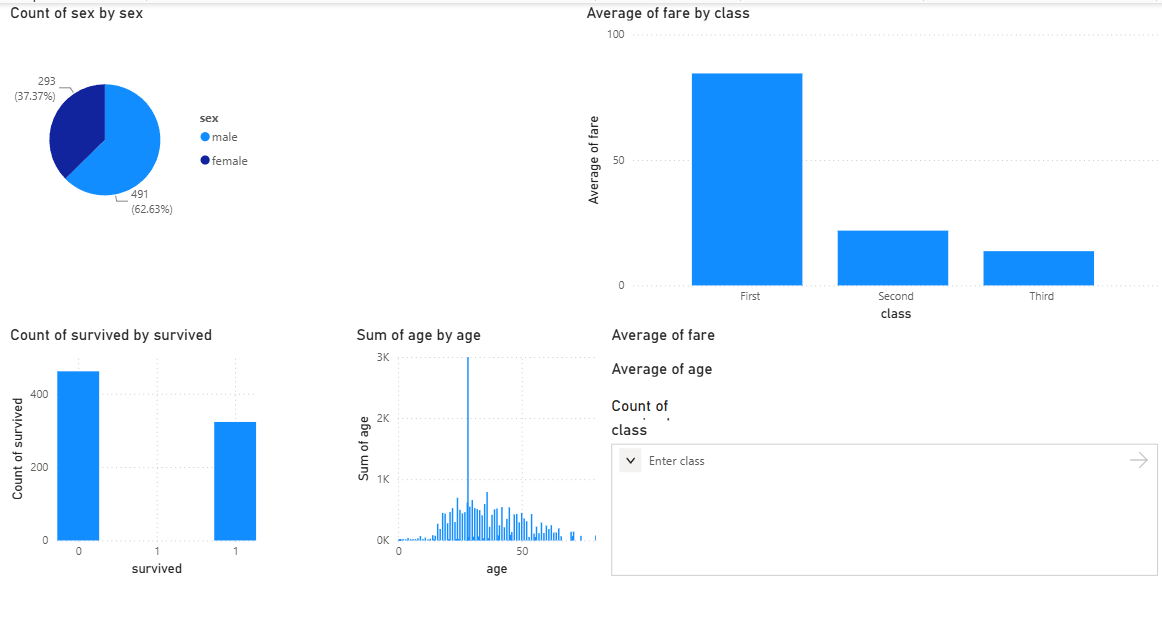

The page's visual inventory and layout, read from the dashboard file:
{"tool":"powerbi","page":{"name":"Page 1","canvas":[1280,720],"ordinal":0},"visuals":[{"type":"pieChart","fields":{"Y":["CountNonNull(titanic_cleaned.sex)"],"Category":["titanic_cleaned.sex"]},"box":[10,0,280,280],"z":0},{"type":"clusteredColumnChart","fields":{"Category":["titanic_cleaned.class"],"Y":["Avg(titanic_cleaned.fare)"]},"box":[642.2,0,638.1,354],"z":1},{"type":"clusteredColumnChart","fields":{"Category":["titanic_cleaned.survived"],"Y":["CountNonNull(titanic_cleaned.survived)"]},"box":[10,354,280,280],"z":2},{"type":"clusteredColumnChart","fields":{"Category":["titanic_cleaned.age"],"Y":["Sum(titanic_cleaned.age)"]},"box":[389.7,354,279.9,279.9],"z":3},{"type":"kpi","fields":{"Indicator":["Avg(titanic_cleaned.fare)"]},"box":[669.6,354,141.3,37],"z":4},{"type":"kpi","fields":{"Indicator":["Avg(titanic_cleaned.age)"]},"box":[669.6,391.1,141.3,41.2],"z":5},{"type":"advancedSlicerVisual","fields":{"Label":["CountNonNull(titanic_cleaned.survived)"]},"box":[669.6,432.2,141.3,27.4],"z":6},{"type":"textSlicer","fields":{"Values":["titanic_cleaned.class"]},"box":[670,459,610,175],"z":7}]}

Visuals, with their boxes in screenshot pixels (x1, y1, x2, y2), scaled from the page's 1280x720 canvas onto the 1162x642 screenshot:
pieChart - CountNonNull(titanic_cleaned.sex) x titanic_cleaned.sex: x1=9, y1=0, x2=263, y2=250
clusteredColumnChart - titanic_cleaned.class x Avg(titanic_cleaned.fare): x1=583, y1=0, x2=1161, y2=316
clusteredColumnChart - titanic_cleaned.survived x CountNonNull(titanic_cleaned.survived): x1=9, y1=316, x2=263, y2=565
clusteredColumnChart - titanic_cleaned.age x Sum(titanic_cleaned.age): x1=354, y1=316, x2=608, y2=565
kpi - Avg(titanic_cleaned.fare): x1=608, y1=316, x2=736, y2=349
kpi - Avg(titanic_cleaned.age): x1=608, y1=349, x2=736, y2=385
advancedSlicerVisual - CountNonNull(titanic_cleaned.survived): x1=608, y1=385, x2=736, y2=410
textSlicer - titanic_cleaned.class: x1=608, y1=409, x2=1161, y2=565
